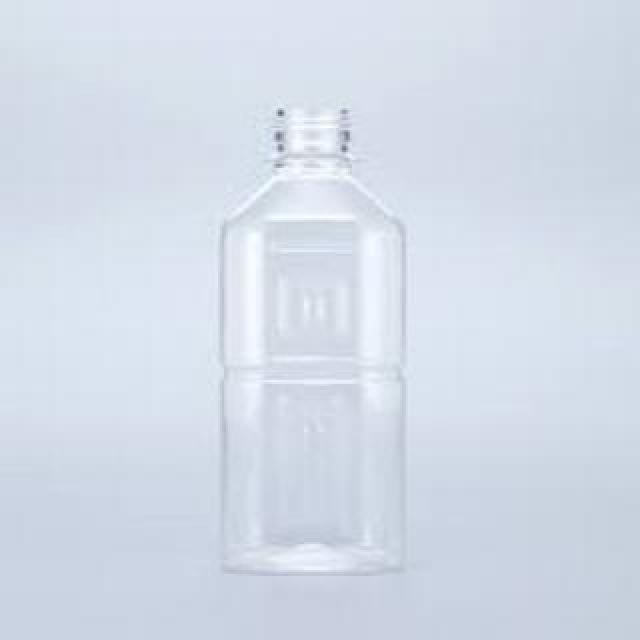Pet_Bottle: (203, 101, 413, 589)
